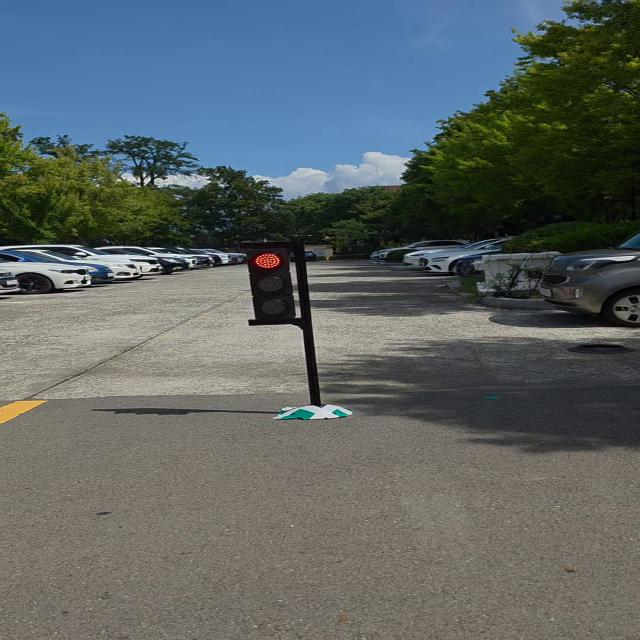red: (229, 244, 311, 328)
